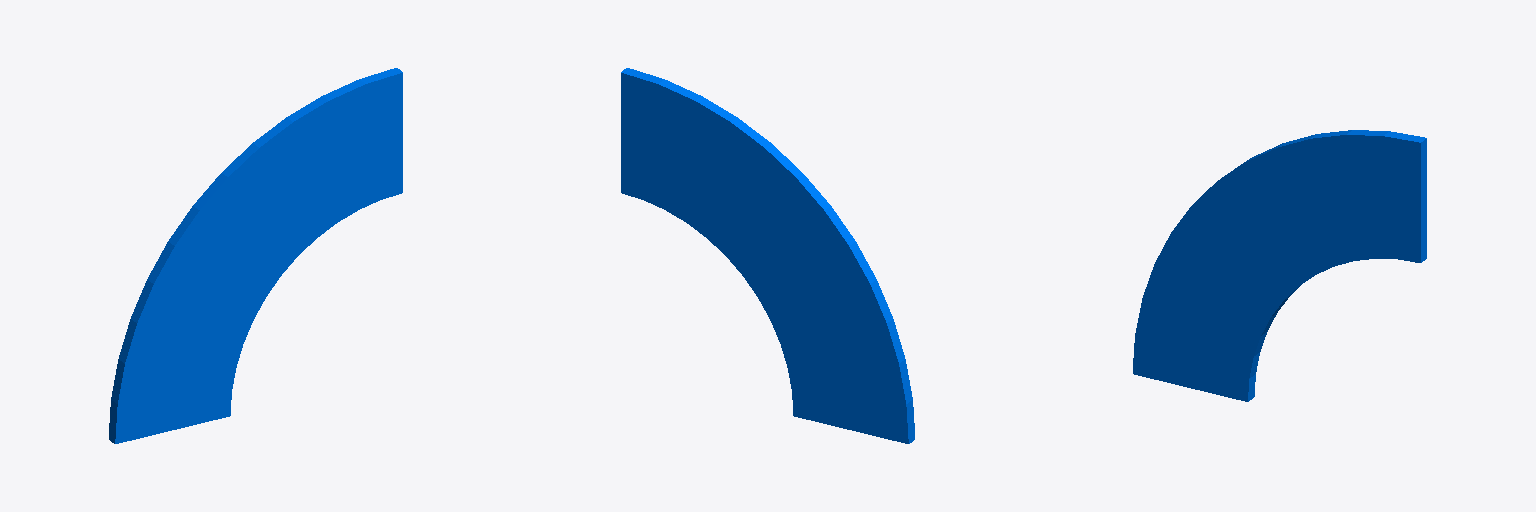
File: BallBonus.obj
3 renders of one model, left to right at view 1: azimuth 30°, elevation 25°; view 2: azimuth 150°, elevation 25°; view 3: azimuth 330°, elevation 25°, orthographic.
Parts seen in each view (by area): view 1: BallBonus; view 2: BallBonus; view 3: BallBonus.
Boxes of the visible parts, x1,y1,x2,y2 form: BallBonus: [109, 68, 402, 443]; BallBonus: [621, 68, 914, 443]; BallBonus: [1133, 130, 1426, 401].
Size of the model in its own units: 5 by 5 by 0.2.